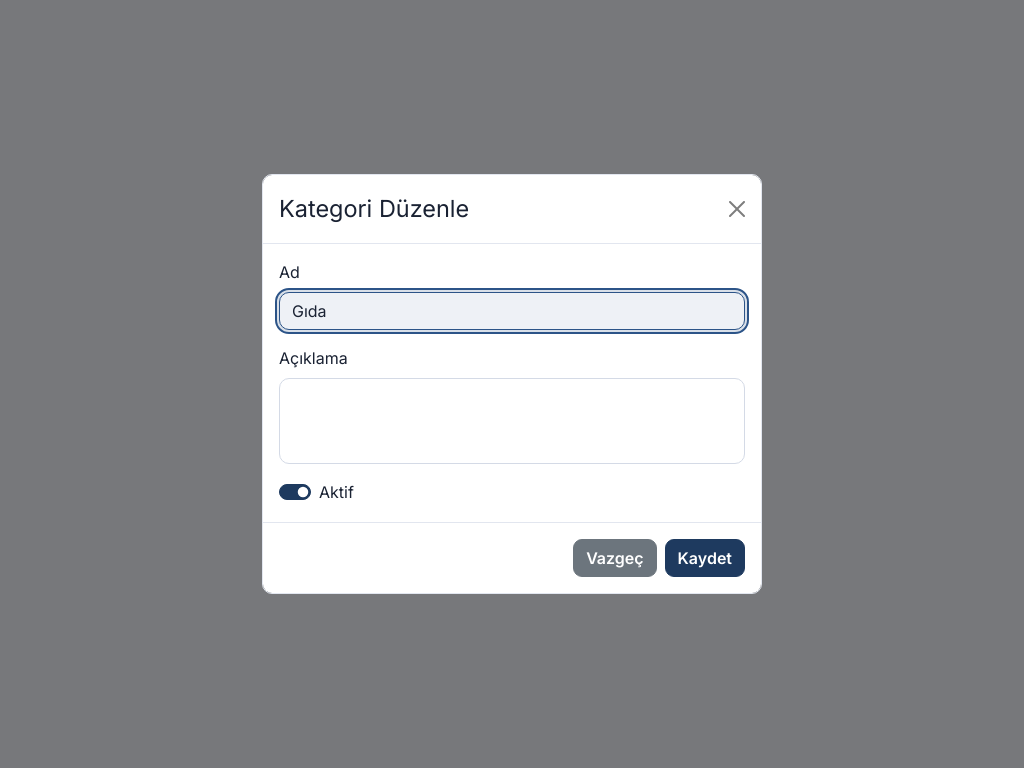
Test case: CategoryFormModal — sürüm çakışması (D10) › sürüm çakışmasında yazılanlar kalıyor ve uyarı çıkıyor
The image size is (1024, 768).
Replace the text in the field labelled "Ad" with "Yazılan" at point(512, 311), box [279, 292, 745, 330]
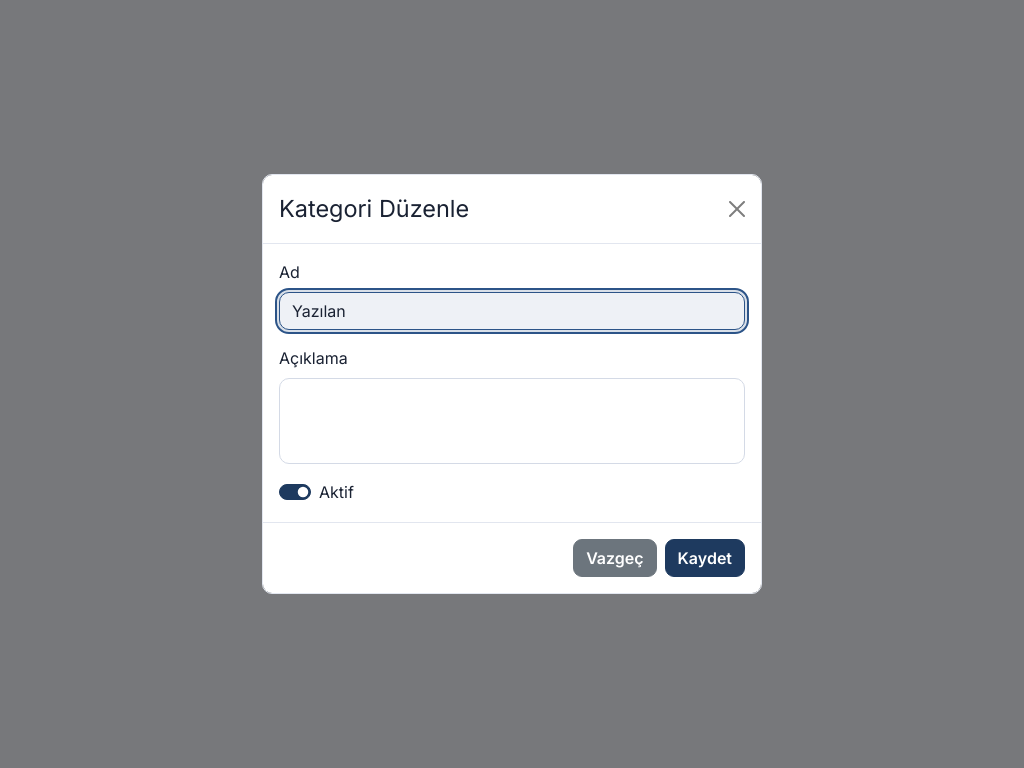
Click the button "Kaydet" at point(705, 558), box [665, 539, 745, 577]
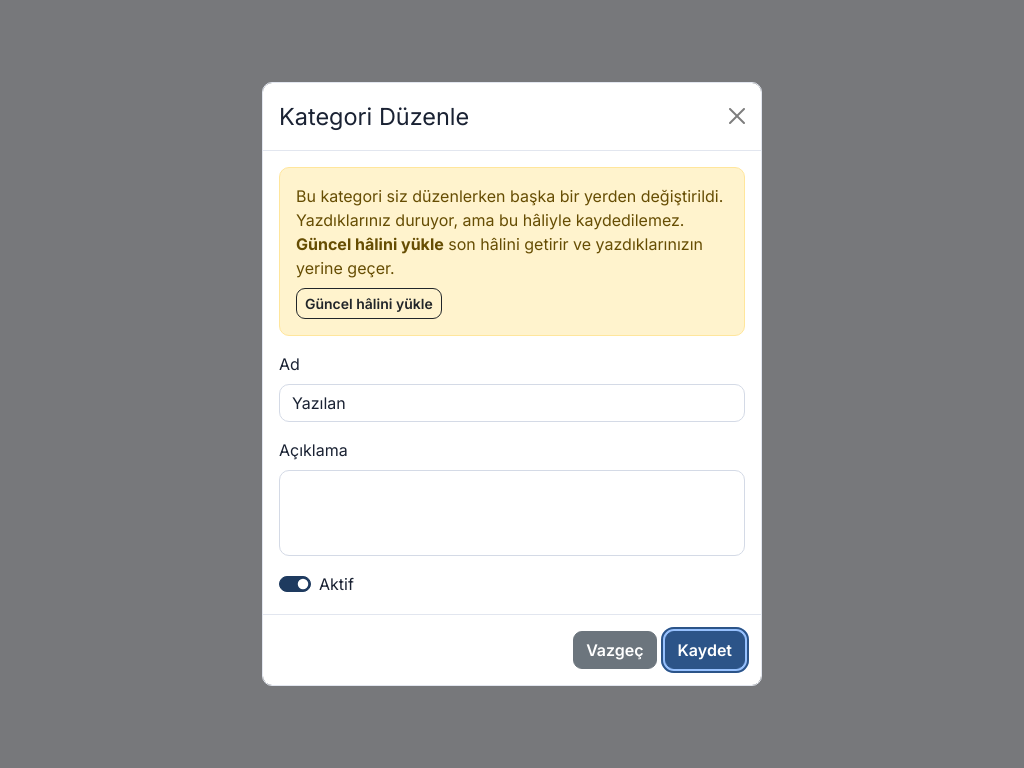
Now the text "siz düzenlerken başka bir yerden değiştirildi" is shown, box [296, 186, 723, 230]
